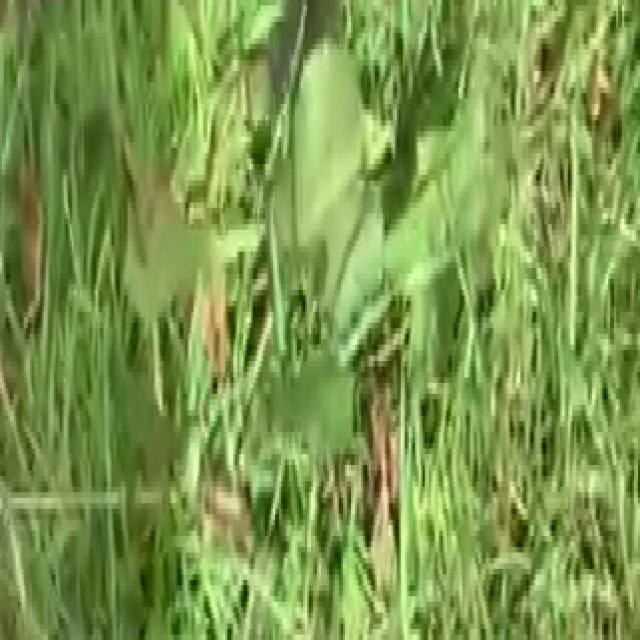organic waste: (207, 0, 544, 492)
